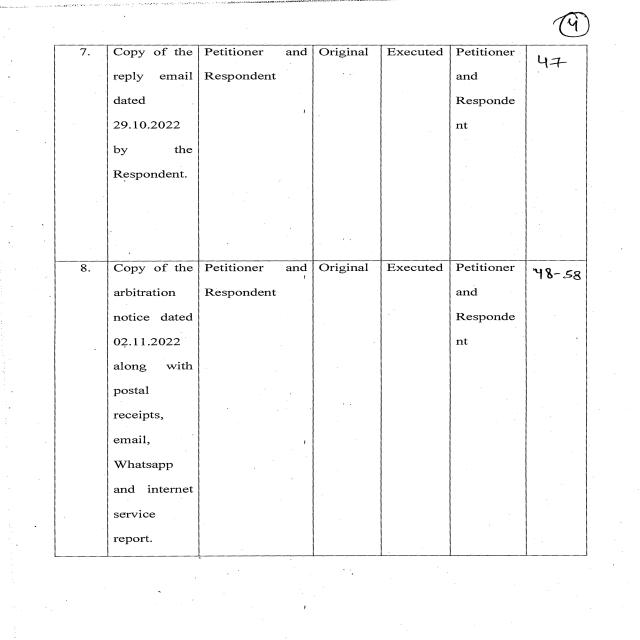page-number: (409, 0, 638, 42)
